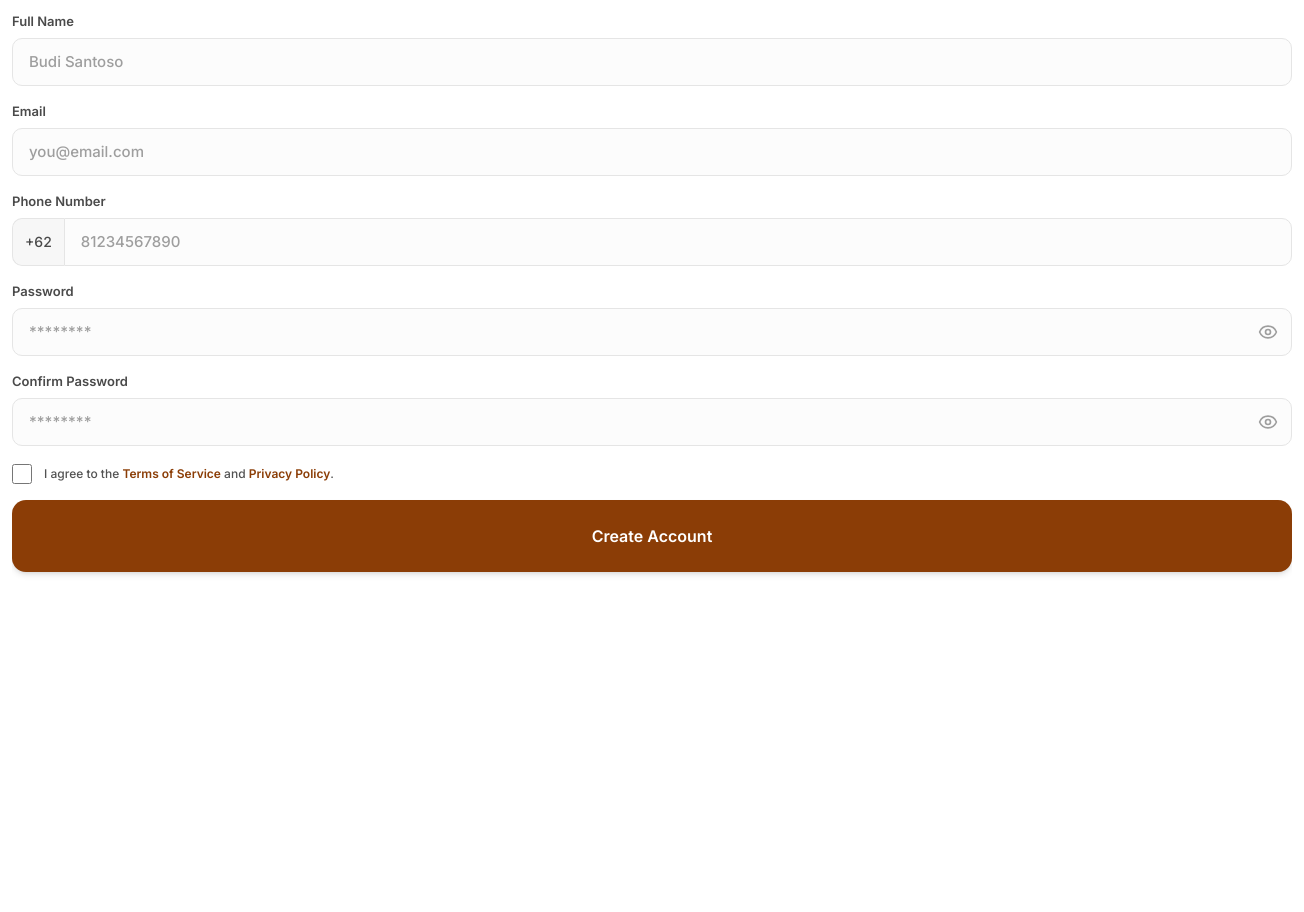
it: RegisterForm › validates empty inputs and checkbox requirement
Click the button "Create Account" at (652, 536), box [12,500,1292,572]
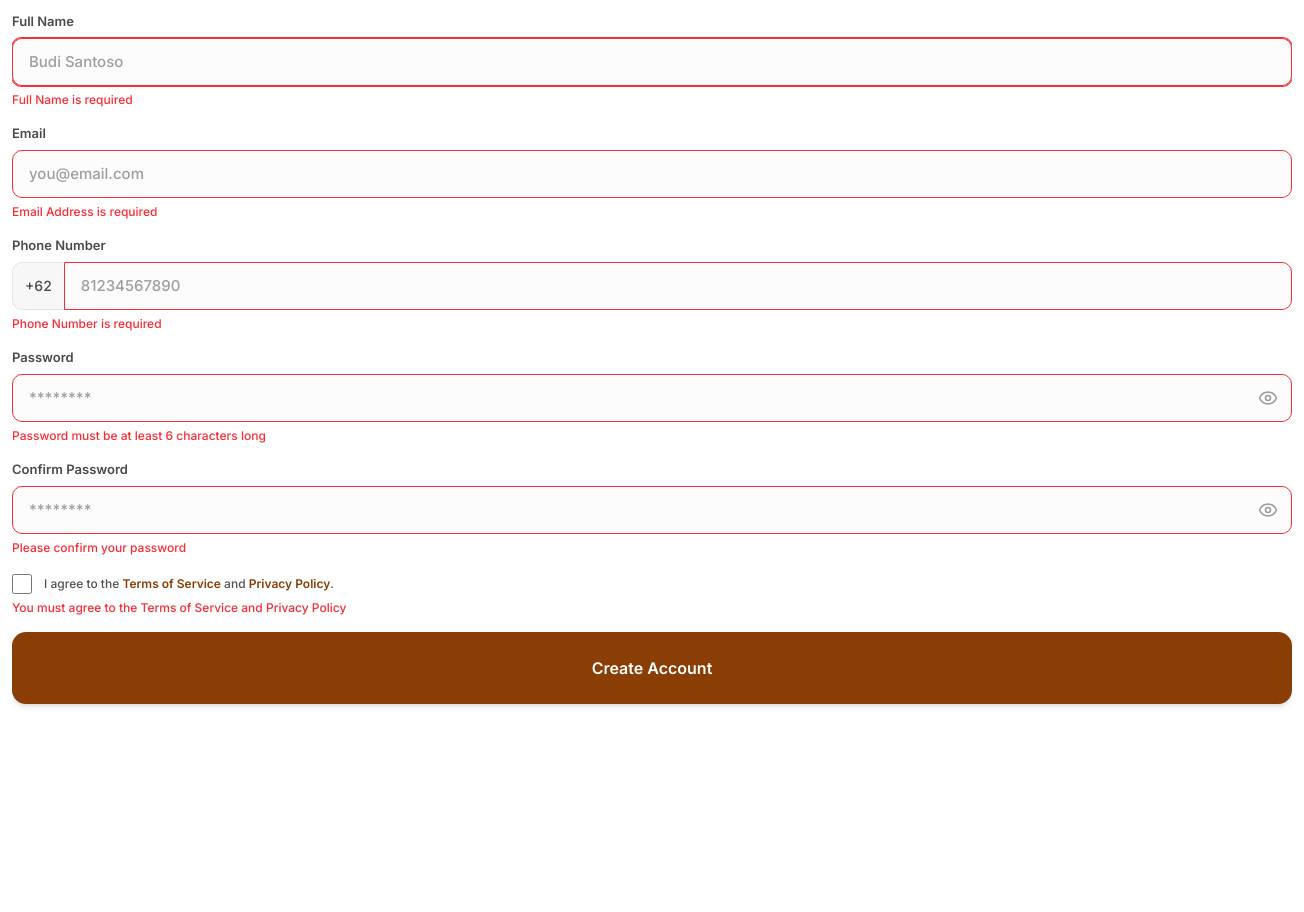
Check: the text "Full Name is required" is shown, box [12,92,133,107]
Check: the text "Email Address is required" is shown, box [12,204,158,219]
Check: the text "Phone Number is required" is shown, box [12,316,162,331]
